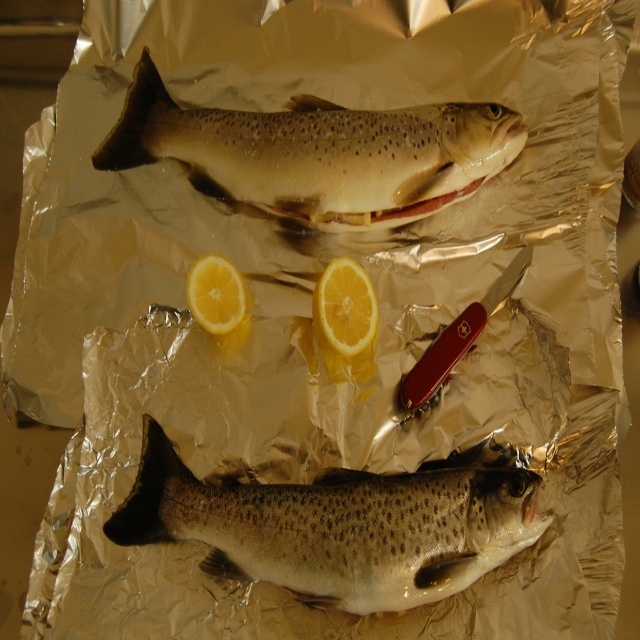Fish: (101, 414, 555, 619), (92, 46, 529, 232)
